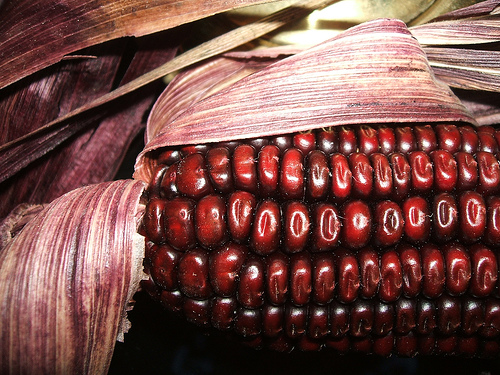corn: (137, 120, 499, 371)
